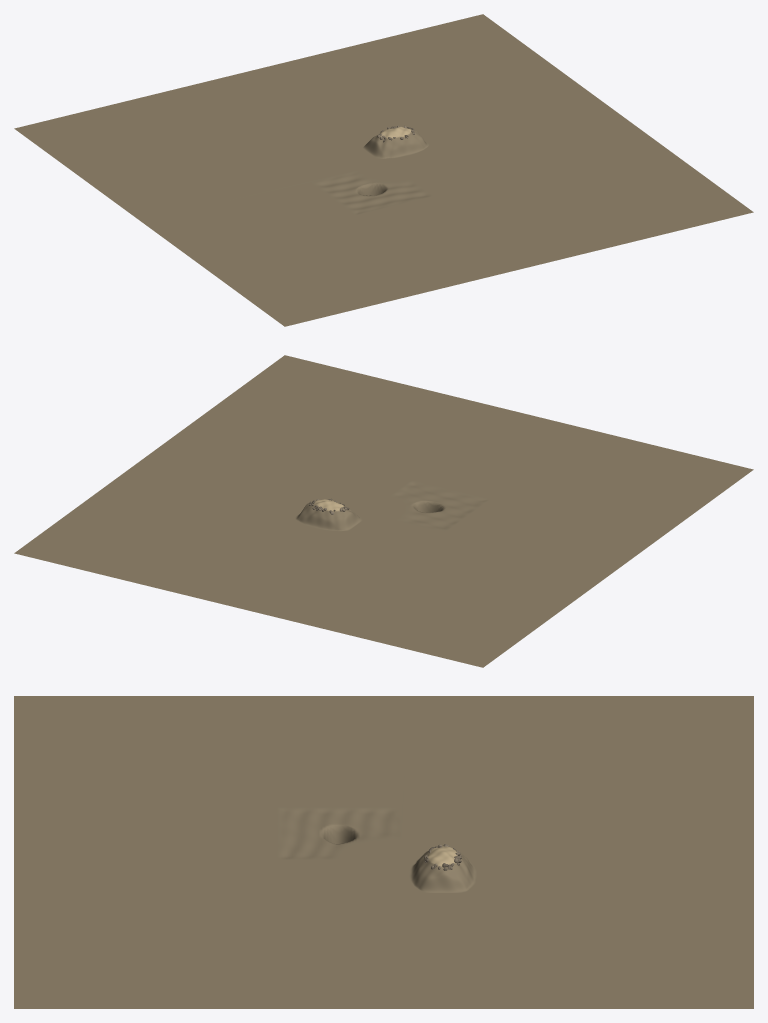
File: harbor-island.glb
3 views of the same model, one above another, from view 1: azimuth 30°, elevation 25°; view 2: azimuth 150°, elevation 25°; view 3: azimuth 270°, elevation 25° (orthographic). The views are drawn at different scales.
Parts seen in each view (by area): view 1: Harbor terrain; view 2: Harbor terrain; view 3: Harbor terrain.
Part boxes in pixels (x1=…): Harbor terrain: x1=14, y1=14, x2=753, y2=326; Harbor terrain: x1=14, y1=355, x2=753, y2=667; Harbor terrain: x1=14, y1=696, x2=753, y2=1008.
Size of the model in its own units: 500 by 52.69 by 500.
